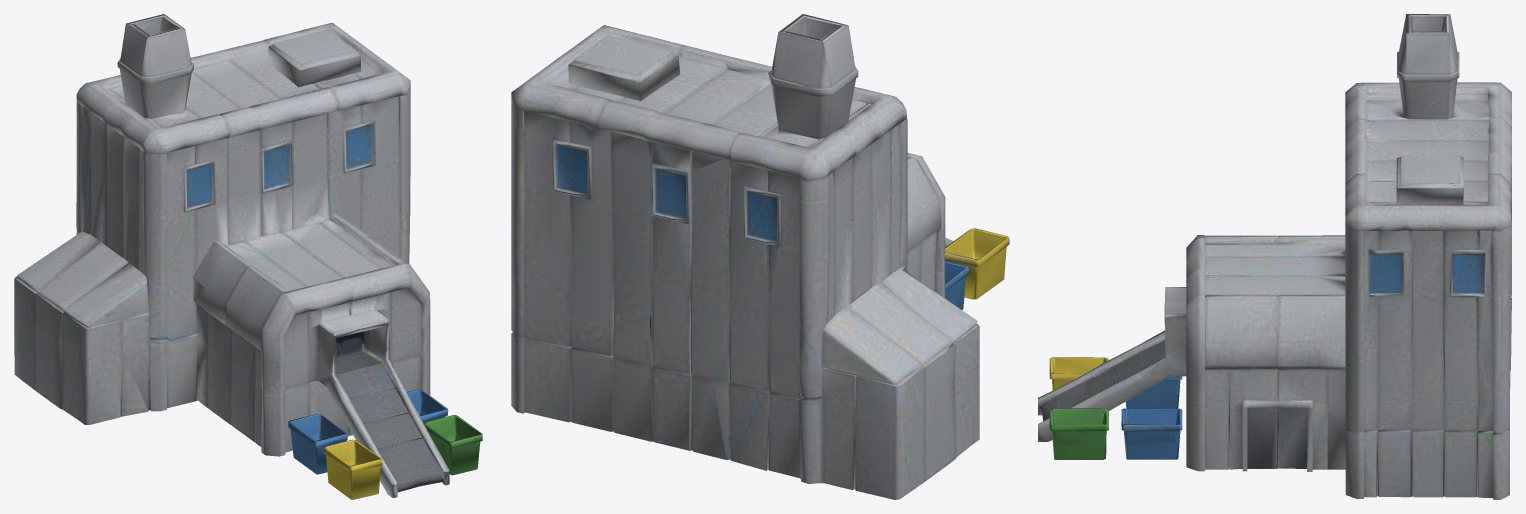
File: 27-recycling-center.glb
3 views of the same model, side by side, from view 1: azimuth 30°, elevation 25°; view 2: azimuth 150°, elevation 25°; view 3: azimuth 270°, elevation 25° (orthographic). The views are drawn at different scales.
Visible parts, largest first — view 1: geometry_0; view 2: geometry_0; view 3: geometry_0.
Part boxes in pixels (bbox=[...]): geometry_0: bbox=[14, 14, 482, 499]; geometry_0: bbox=[511, 14, 1009, 499]; geometry_0: bbox=[1038, 14, 1511, 499].
Size of the model in its own units: 0.7959 by 0.8056 by 0.9517.
Materials: 1 (1 with a texture image).
